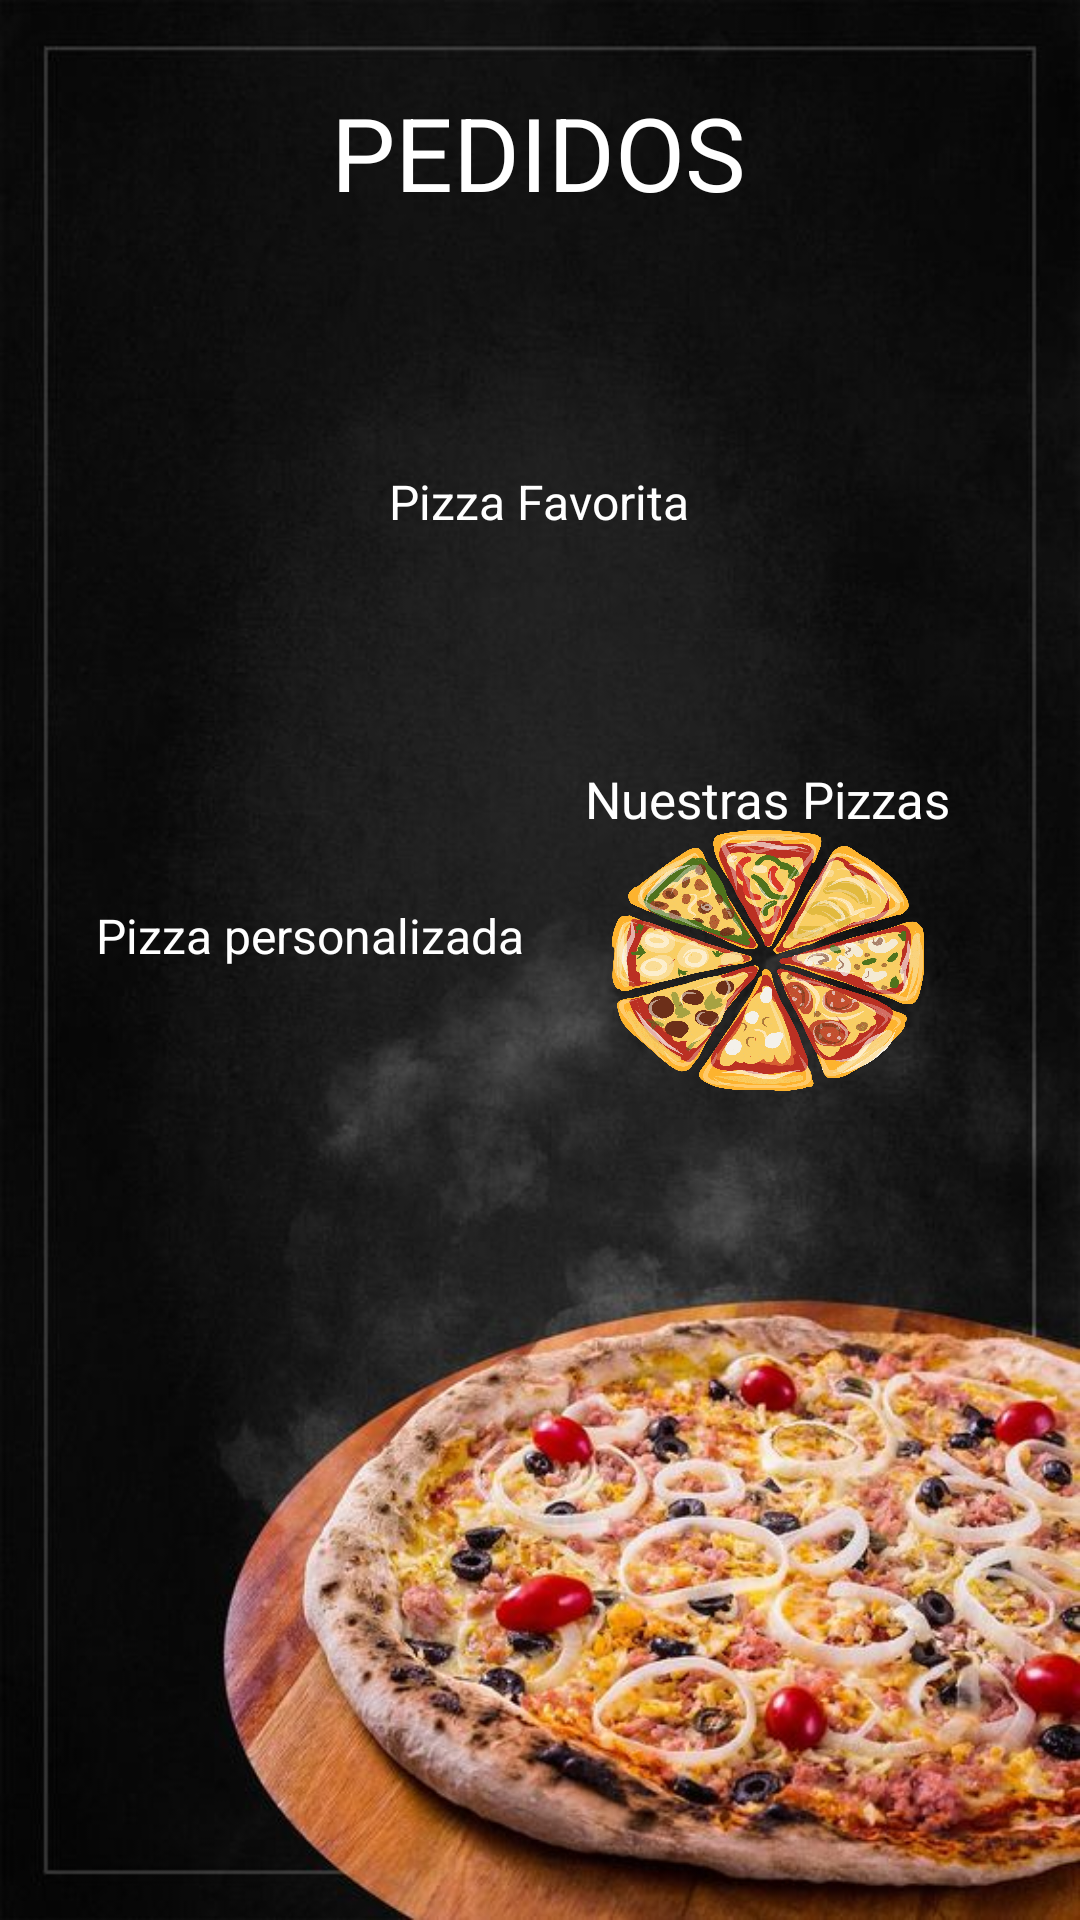

Point at icon controls on the screen. Image size 1080px x 1920px, points as [x,y].
Pizzas predeterminadas: [768,960]
